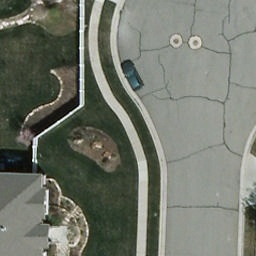car: (117, 59, 148, 93)
